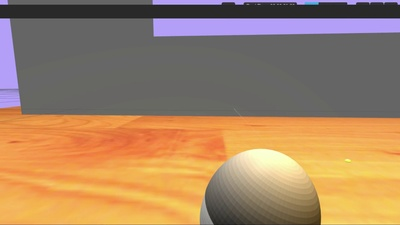mira_robot: (199, 148, 322, 225)
